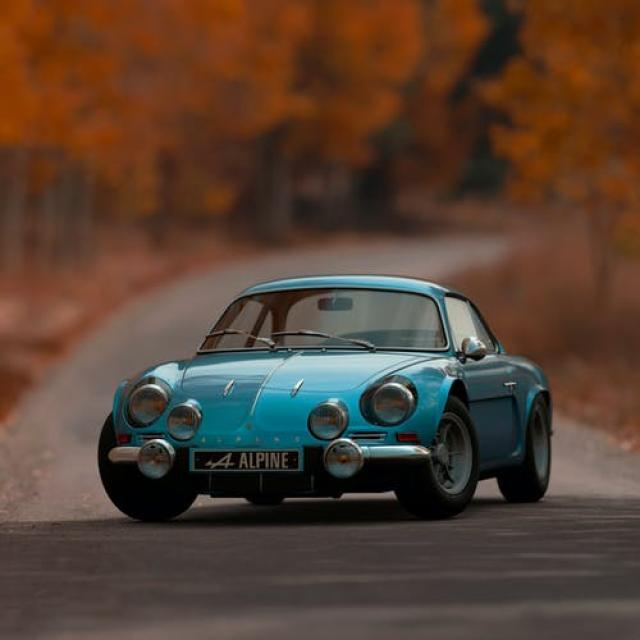Car: (96, 273, 553, 522)
